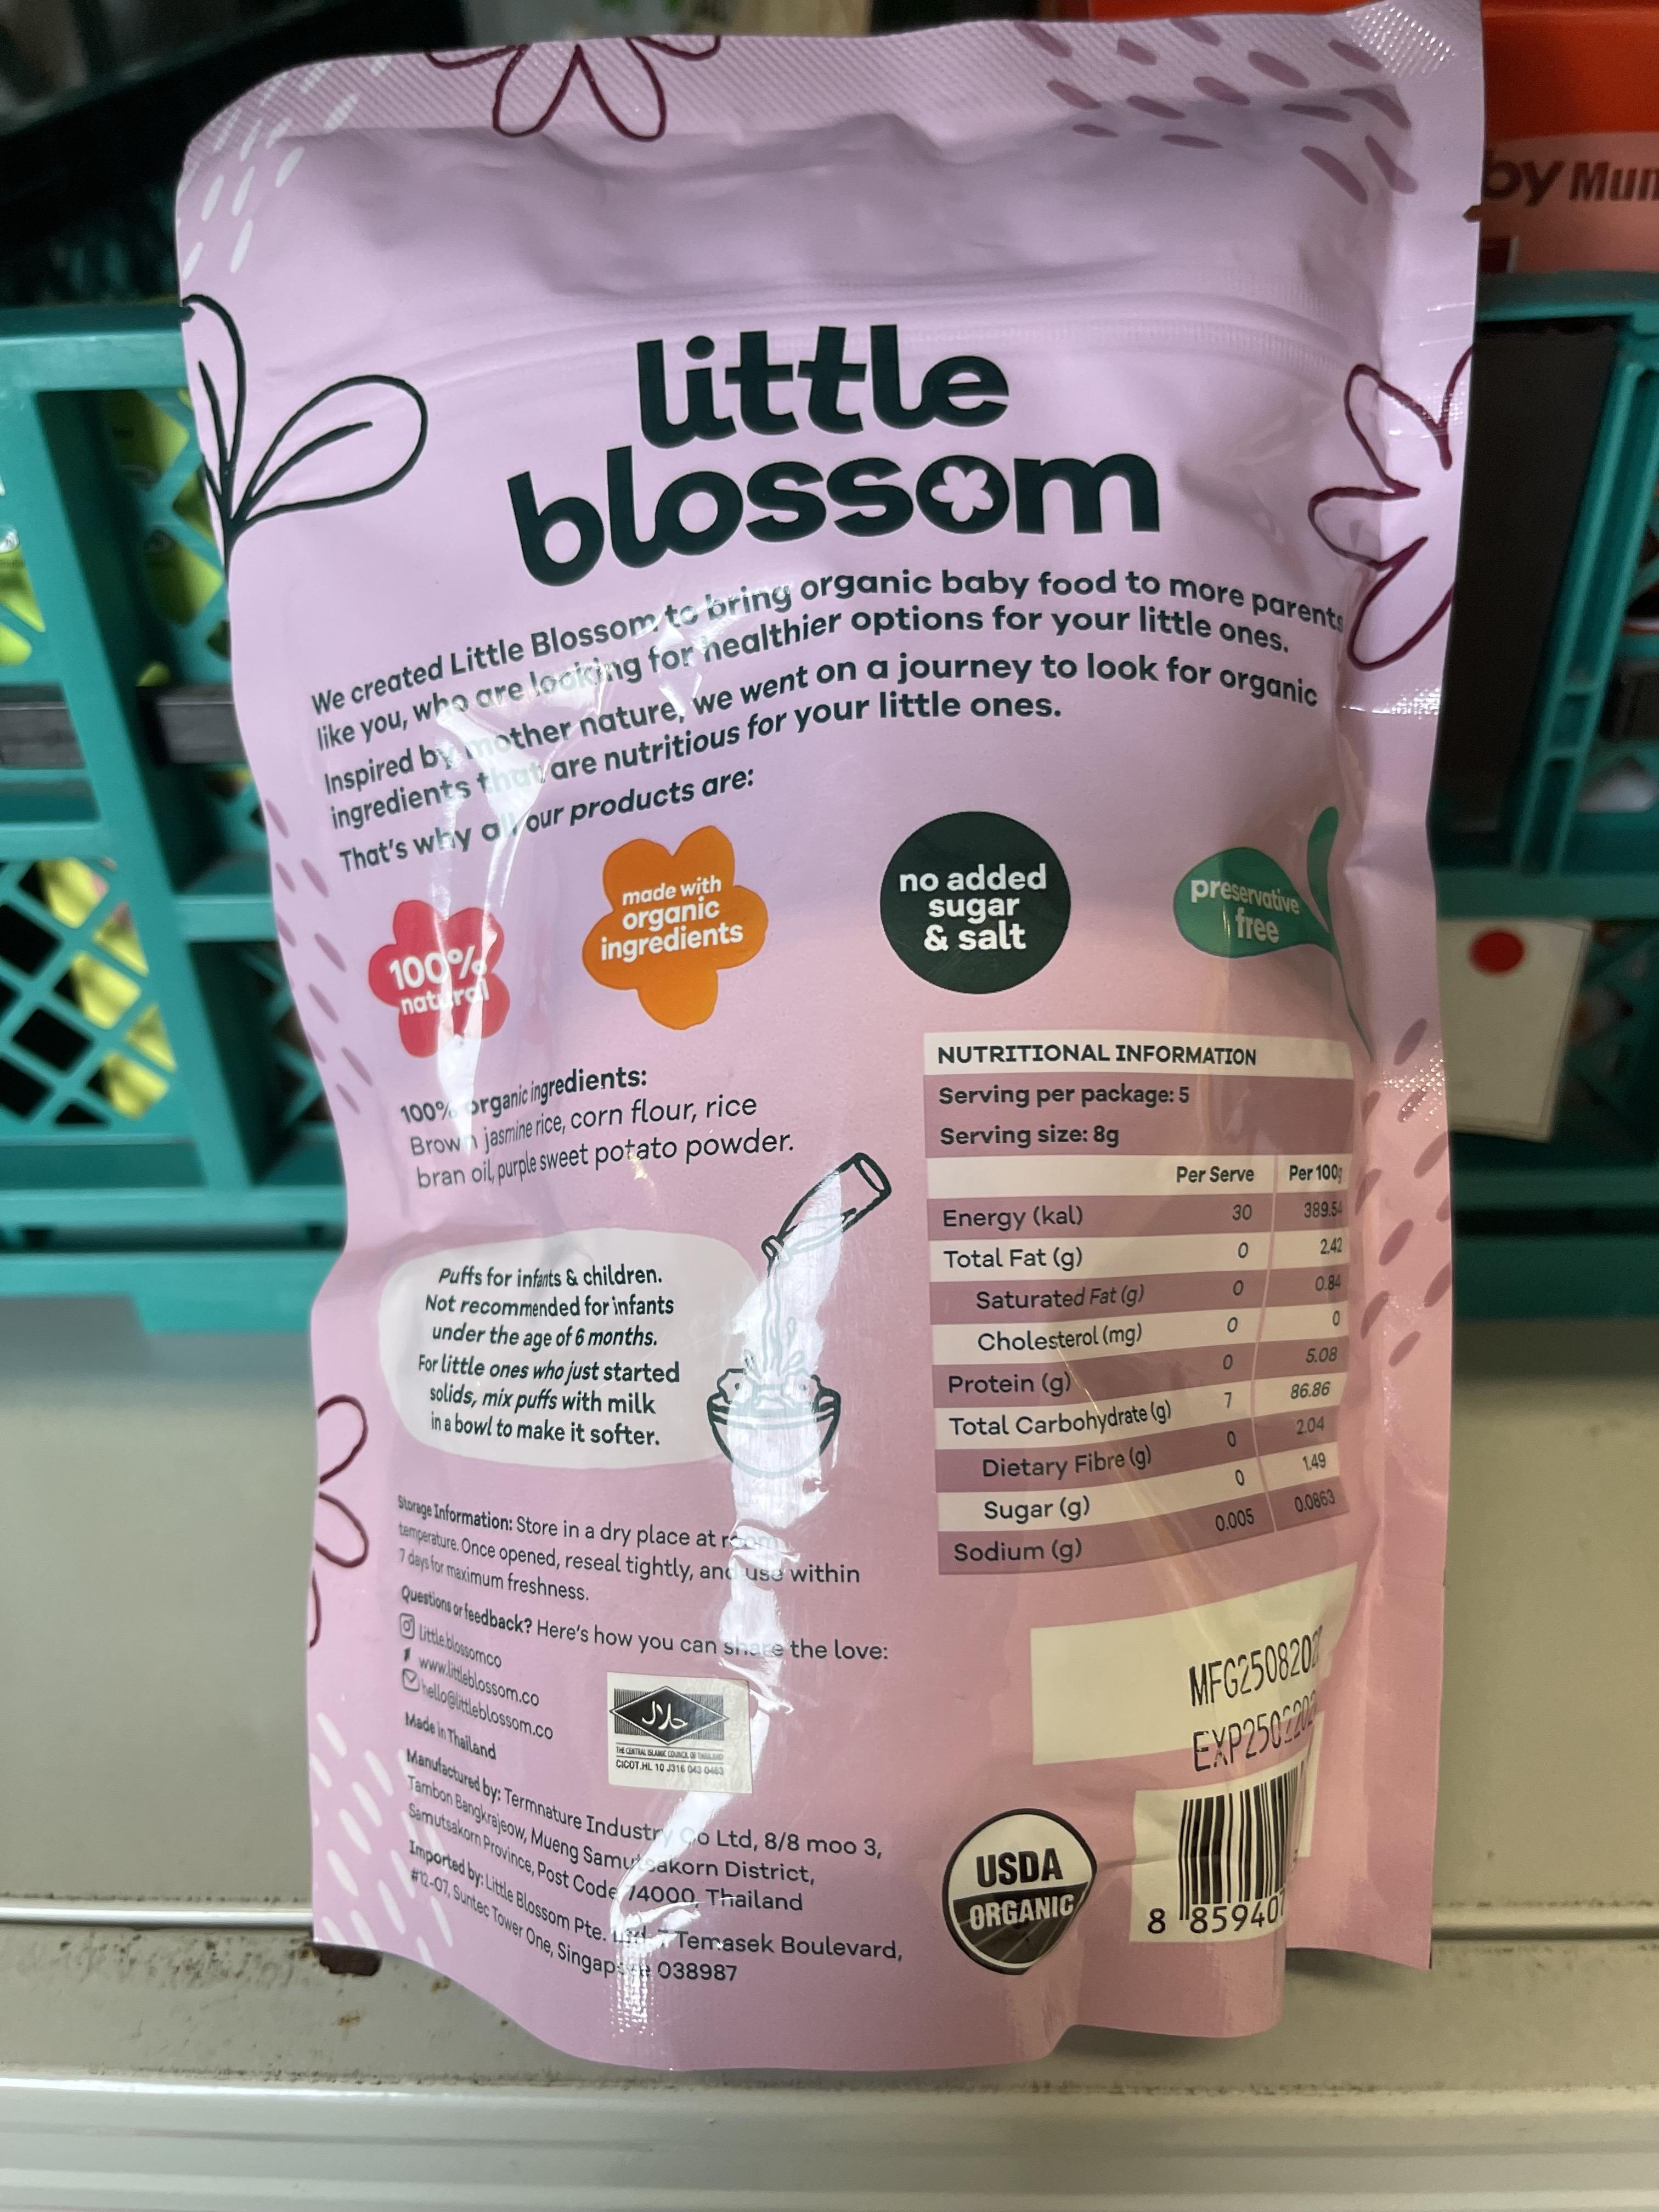object_name: (213, 82, 1448, 1970)
